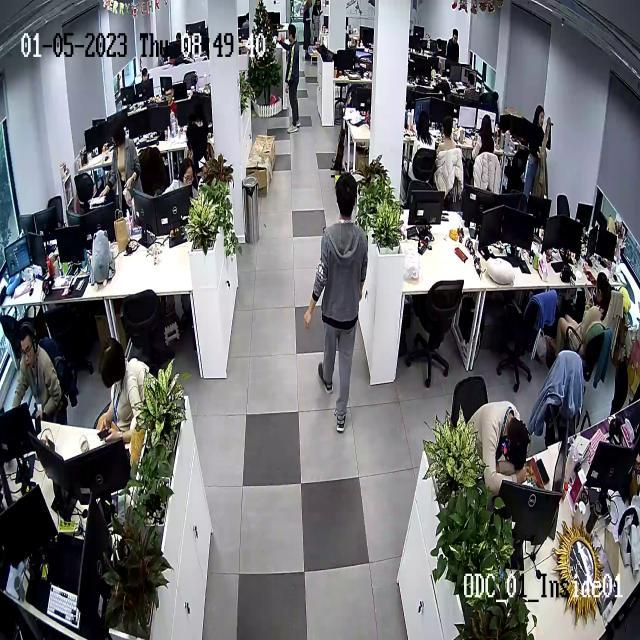person: (304, 173, 369, 434), (93, 338, 149, 450), (469, 401, 533, 485), (11, 322, 64, 422), (559, 273, 615, 356), (523, 107, 555, 205), (109, 120, 141, 210), (472, 114, 502, 195), (281, 22, 301, 130), (164, 159, 200, 205), (412, 112, 435, 174), (439, 111, 461, 161), (446, 27, 461, 68), (161, 83, 179, 116)
